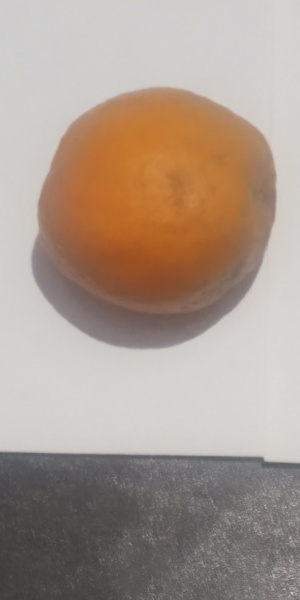BAD: (35, 83, 282, 320)
